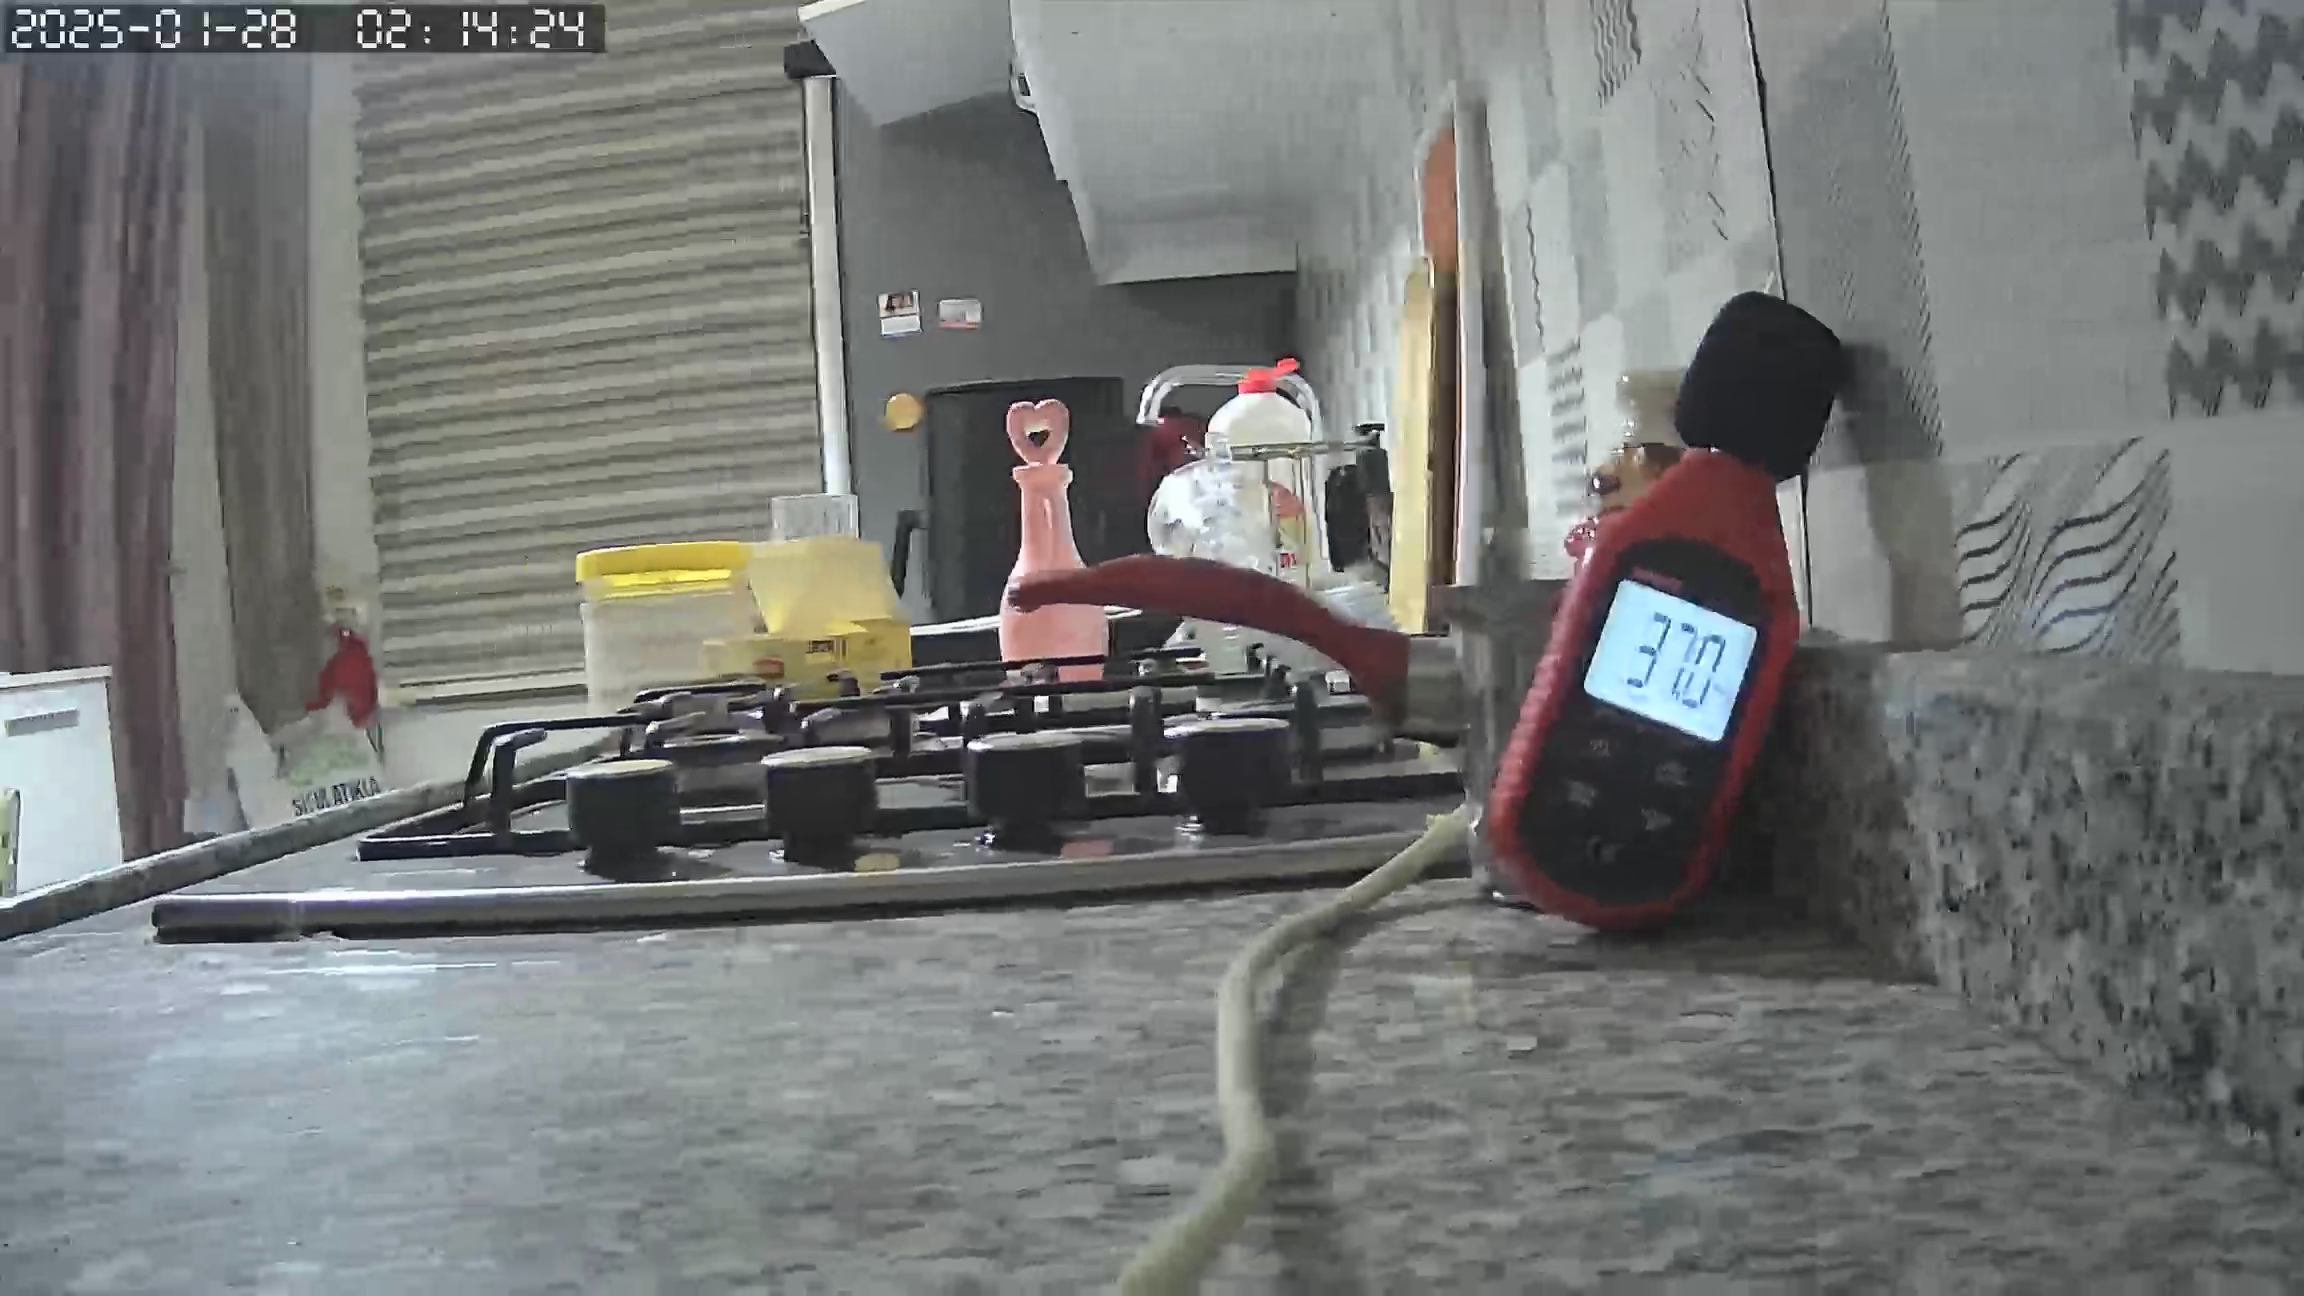screen: (1587, 581, 1756, 742)
